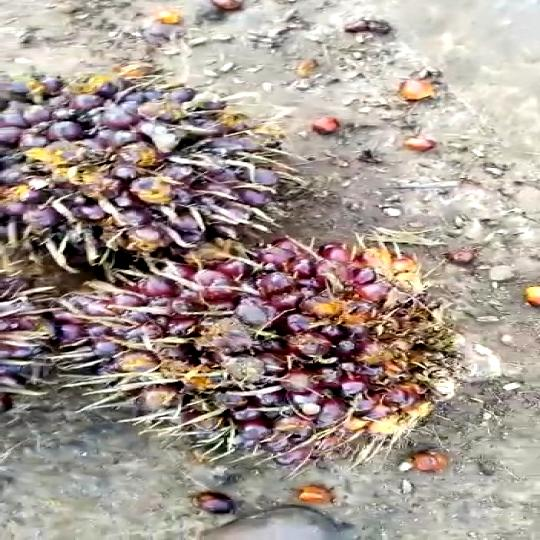kurang masak: (37, 256, 474, 463), (0, 66, 288, 255)
